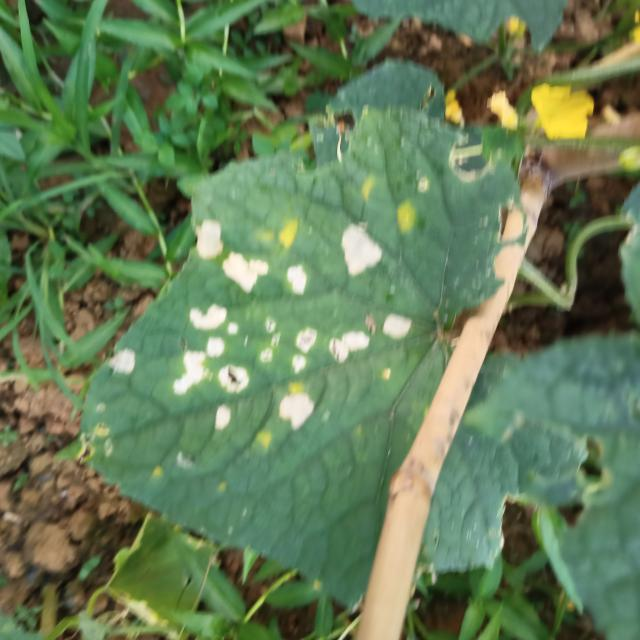disease_cucumber: (92, 300, 416, 434), (189, 215, 387, 299)
